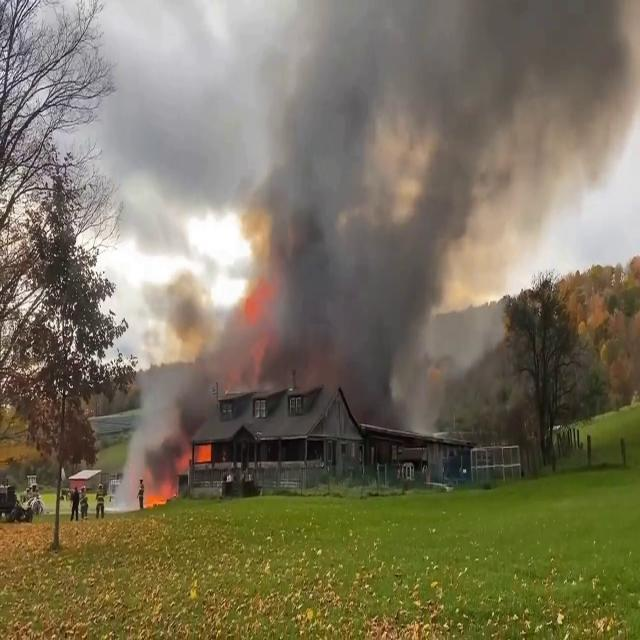Smoke: (250, 0, 568, 435), (116, 305, 232, 507)
